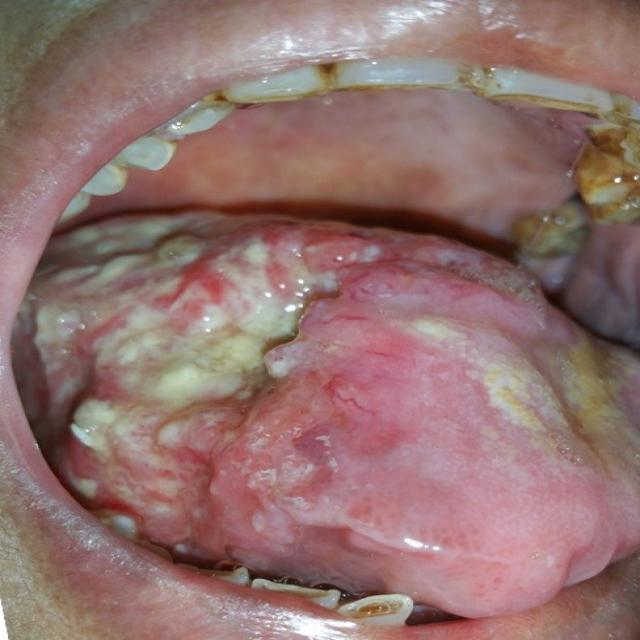Cancer: (44, 215, 382, 631), (447, 229, 640, 578)
